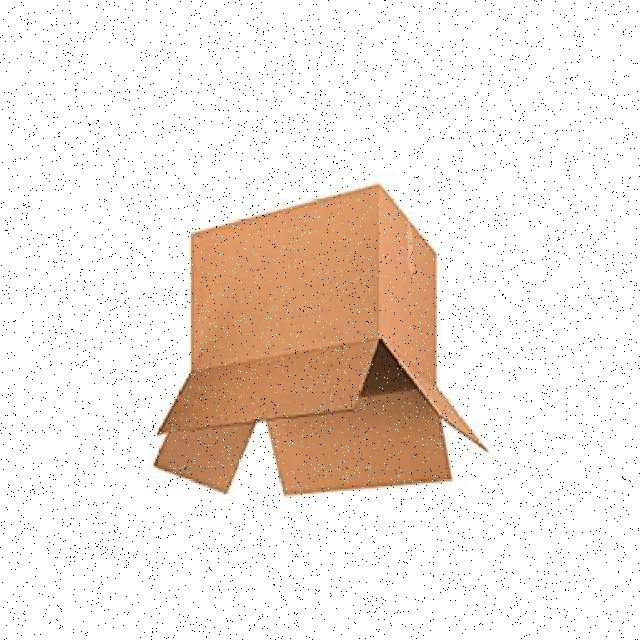defect: (148, 183, 486, 505)
